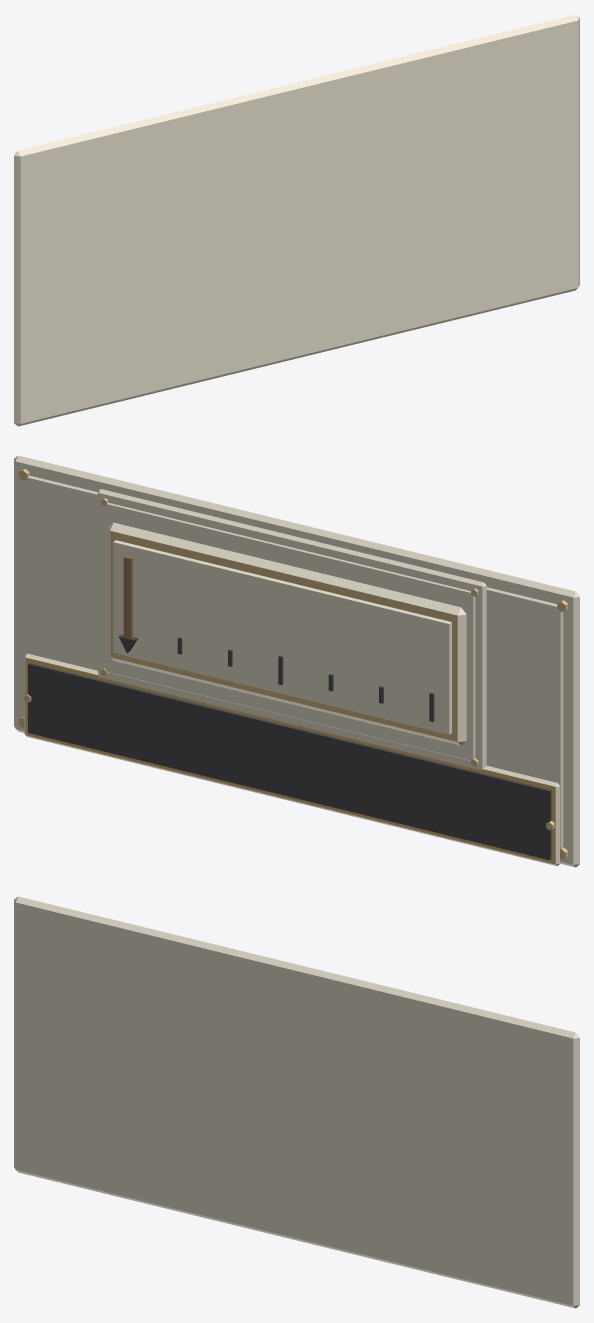
The model's file is Disp_Gauge_2x1.fbx.
The picture shows the model from 3 angles, top to bottom: view 1: azimuth 30°, elevation 25°; view 2: azimuth 150°, elevation 25°; view 3: azimuth 330°, elevation 25°; orthographic projection.
Parts seen in each view (by area): view 1: Disp_Gauge_2x1; view 2: Disp_Gauge_2x1, Needle.002; view 3: Disp_Gauge_2x1.
Boxes of the visible parts, <box> form: Disp_Gauge_2x1: <box>14,14,579,426</box>; Disp_Gauge_2x1: <box>14,455,579,867</box>; Needle.002: <box>119,555,137,652</box>; Disp_Gauge_2x1: <box>14,896,579,1308</box>.
Bounding box in the file's own units: 2.06 × 0.96 × 0.1347.
